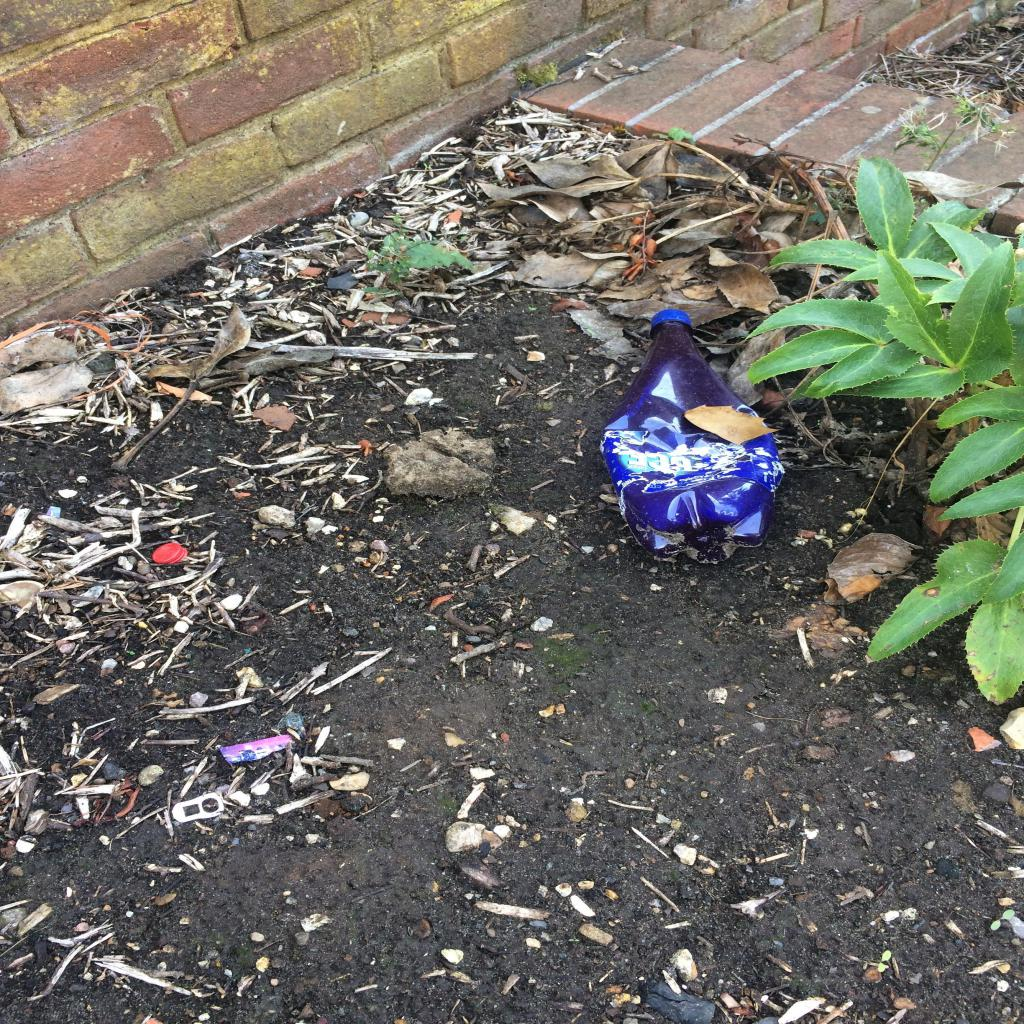Clear plastic bottle: (598, 308, 785, 564)
Metal bottle cap: (152, 543, 188, 564)
Other plastic: (218, 735, 292, 763)
Plastic bottle cap: (650, 310, 690, 326)
Pop tab: (172, 792, 224, 822)
